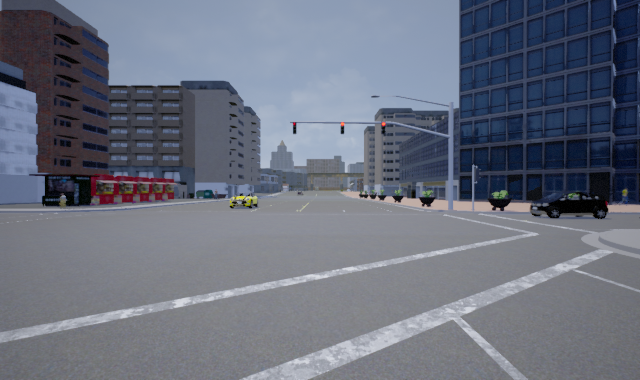pedestrian: (55, 191, 70, 209), (618, 186, 631, 205)
vehicle: (529, 190, 607, 220), (227, 192, 258, 209)
